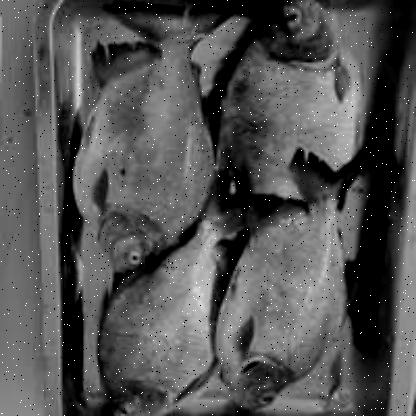ikan-pacu: (73, 8, 219, 266), (224, 183, 356, 405), (98, 206, 236, 413), (218, 0, 356, 202)
